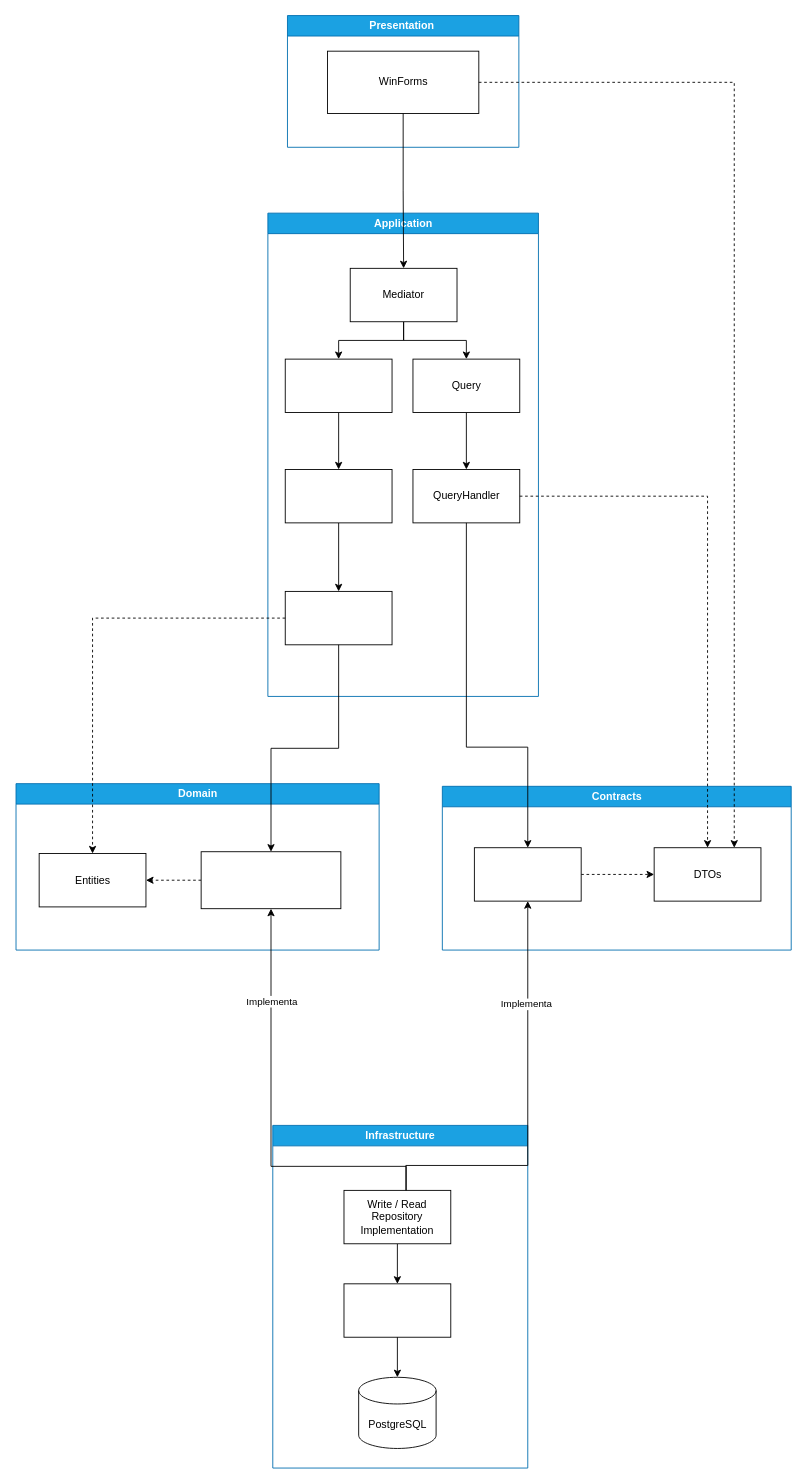
Image size: 806x1484. Some labels were removed from this diagram. The shapes that lost their labels are listed below. From the top down, each one's centre as x and y in pixels, then its label:
At point (338, 385): "Commad".
At point (338, 496): "Validator".
At point (338, 618): "CommandHandler".
At point (270, 880): "Domain Write Repository Interfaces".
At point (527, 874): "Read Repositories".
At point (397, 1310): "EntityFramework".
